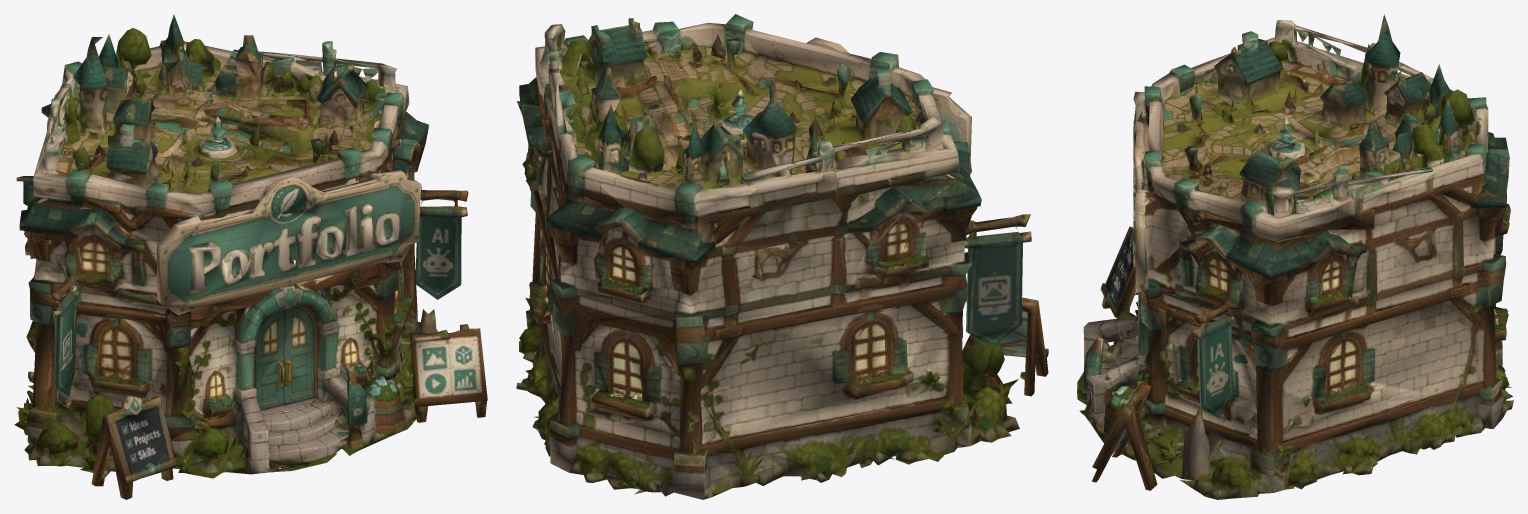
File: exp-portfolio.glb
3 views of the same model, side by side, from view 1: azimuth 30°, elevation 25°; view 2: azimuth 150°, elevation 25°; view 3: azimuth 270°, elevation 25° (orthographic). The views are drawn at different scales.
Visible parts, largest first — view 1: Mesh1.0; view 2: Mesh1.0; view 3: Mesh1.0.
Part boxes in pixels (box(x1,y1,x2,y2)): Mesh1.0: box(14, 14, 487, 499); Mesh1.0: box(516, 14, 1048, 499); Mesh1.0: box(1077, 14, 1513, 499).
Size of the model in its own units: 1.88 by 1.43 by 1.64.
Materials: 1 (1 with a texture image).
